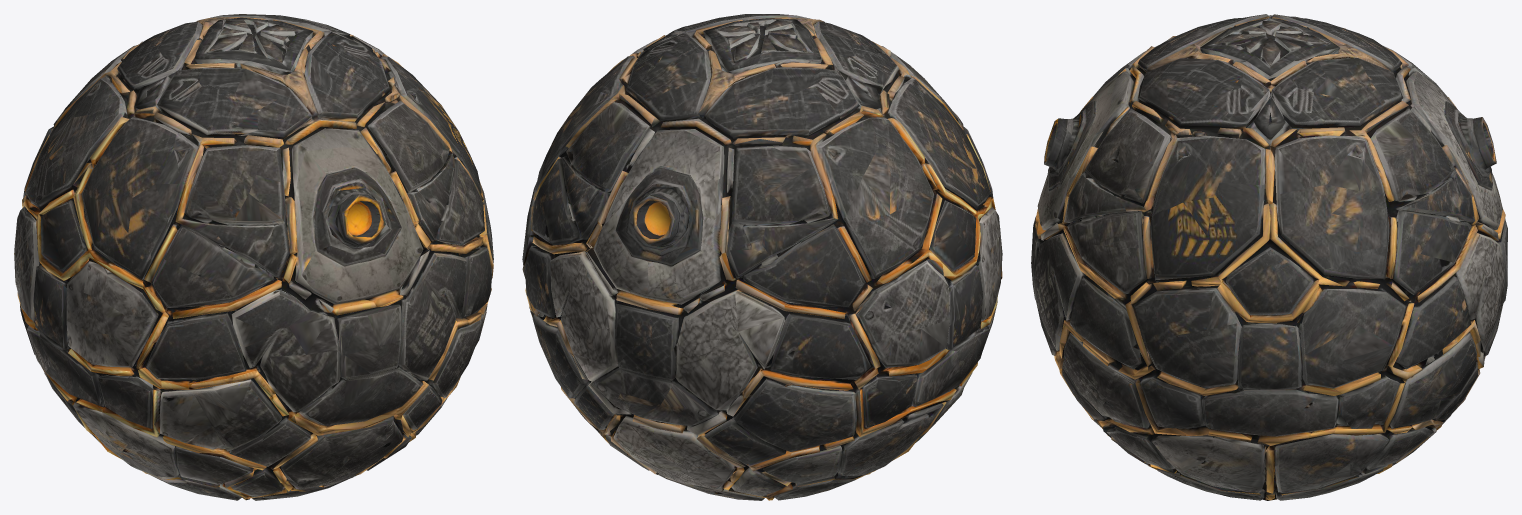
The model's file is MinaBomb.glb.
The picture shows the model from 3 angles, left to right: view 1: azimuth 30°, elevation 25°; view 2: azimuth 150°, elevation 25°; view 3: azimuth 270°, elevation 25°; orthographic projection.
Visible parts, largest first — view 1: Mesh_0; view 2: Mesh_0; view 3: Mesh_0.
Part boxes in pixels (left/top/right/bottom): Mesh_0: left=14, top=14, right=493, bottom=500; Mesh_0: left=522, top=14, right=1002, bottom=500; Mesh_0: left=1031, top=14, right=1507, bottom=500.
Size of the model in its own units: 1.84 by 1.91 by 1.83.
1 material, 1 textured.
